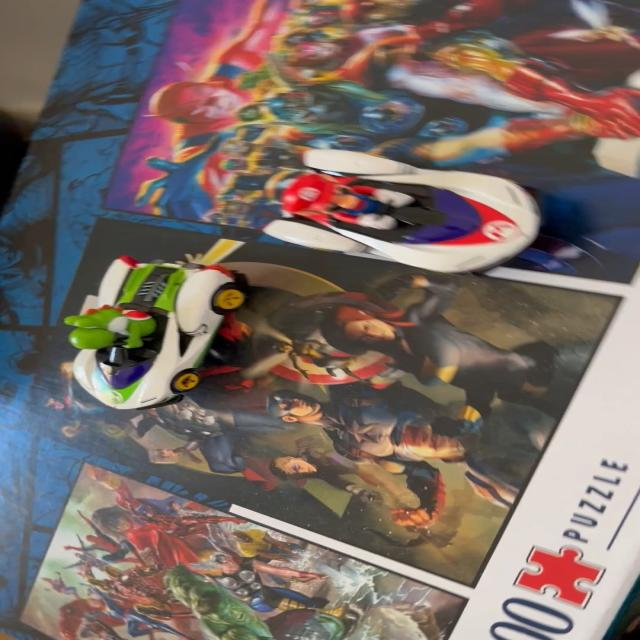mario: (253, 144, 570, 278)
yoshi: (41, 236, 262, 430)
